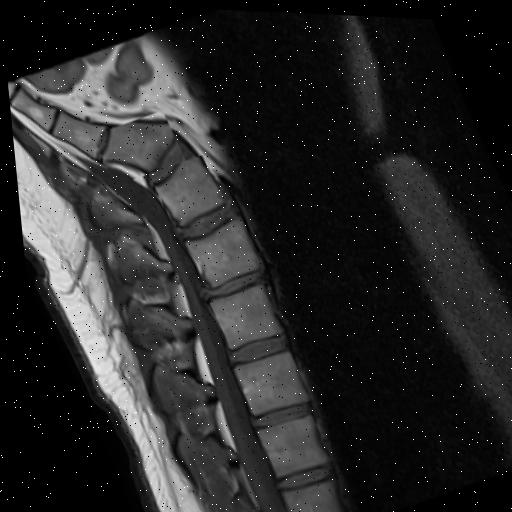L1: (247, 410, 316, 474)
L2: (224, 346, 297, 410)
L3: (202, 282, 272, 346)
L4: (179, 213, 255, 285)
L5: (149, 154, 218, 222)
S1: (96, 119, 170, 171)
